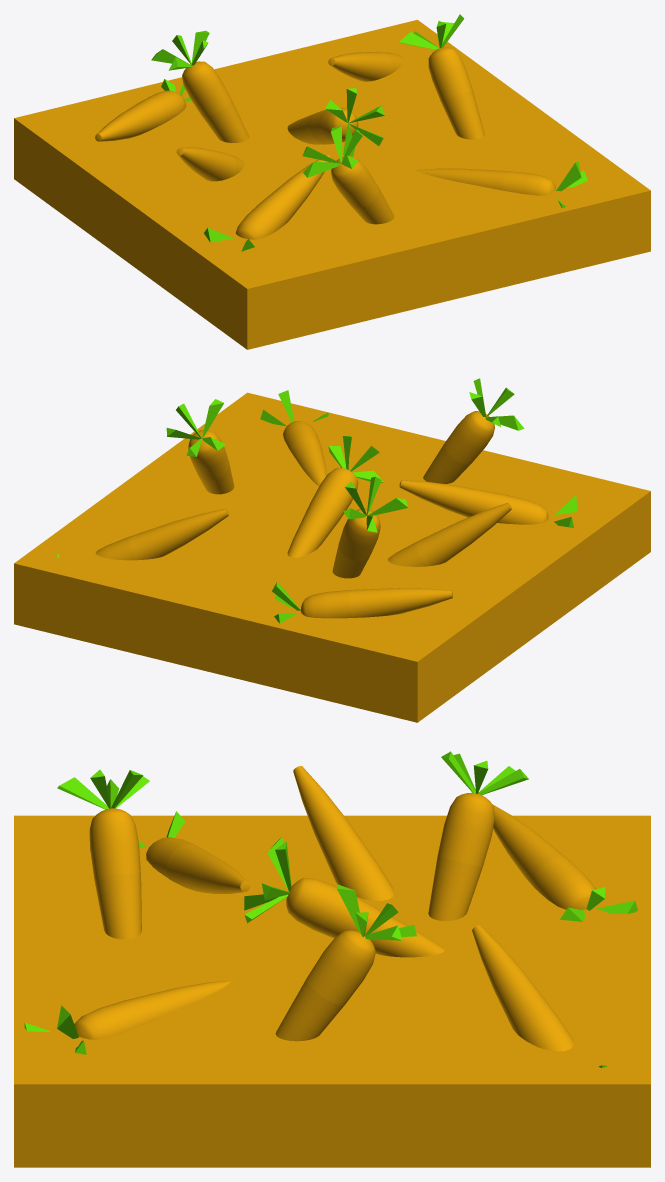
File: Carrot_Crate_Fill_Model.fbx
The picture shows the model from 3 angles, top to bottom: view 1: azimuth 30°, elevation 25°; view 2: azimuth 150°, elevation 25°; view 3: azimuth 270°, elevation 25°; orthographic projection. The views are drawn at different scales.
Parts seen in each view (by area): view 1: Carrot_create_fill_model; view 2: Carrot_create_fill_model; view 3: Carrot_create_fill_model.
Boxes of the visible parts, <box> form: Carrot_create_fill_model: <box>14,14,650,349</box>; Carrot_create_fill_model: <box>14,378,650,722</box>; Carrot_create_fill_model: <box>14,751,650,1167</box>.
Size of the model in its own units: 0.9073 by 0.3531 by 0.9087.
